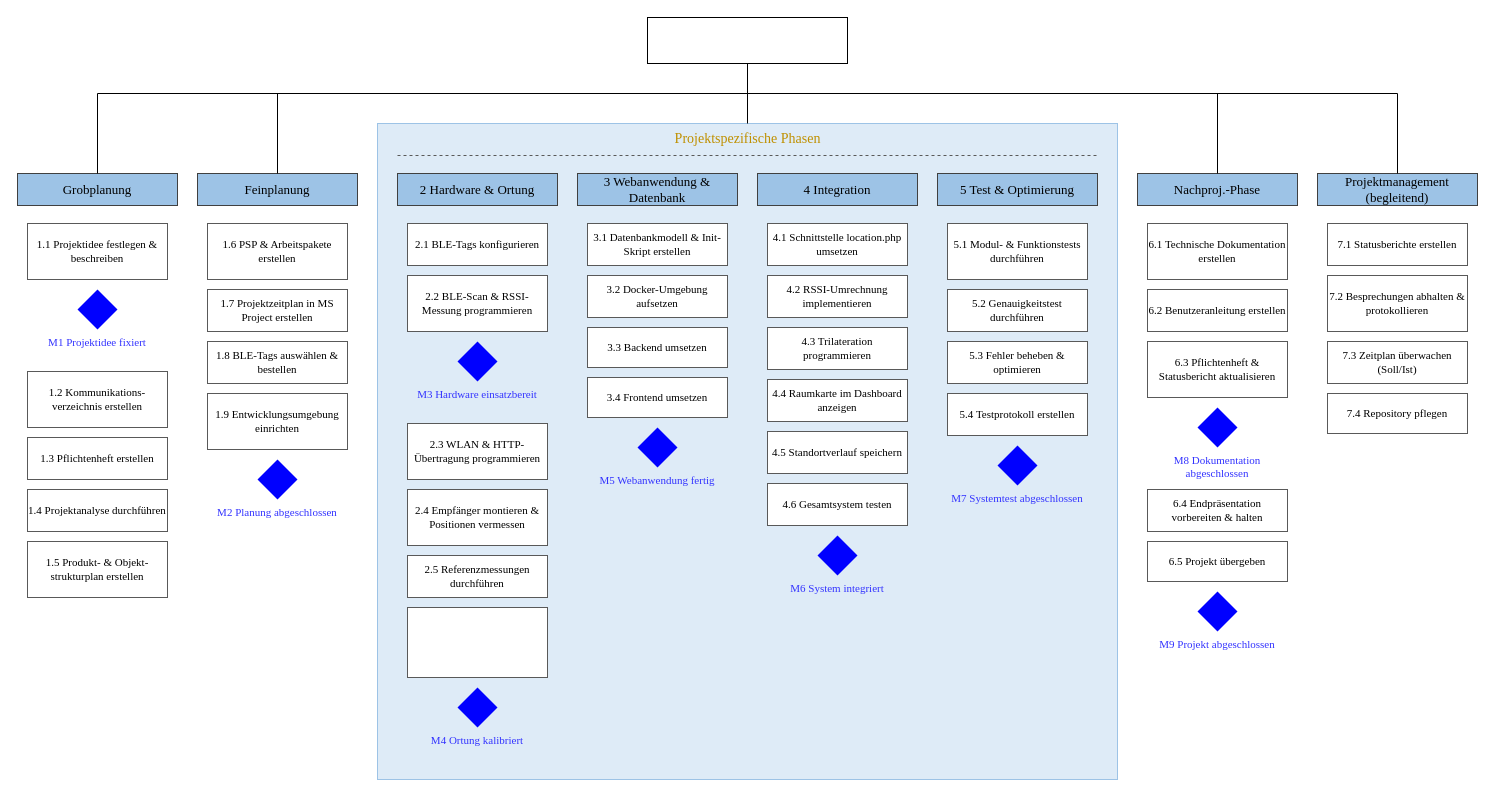
Image size: 1495x797. Some labels were removed from this diagram. The centre of each missing label's shape, as x and y in pixels:
2.6 TxPower & n bestimmen, Messprotokoll erstellen: [477,642]
MedTrack: [747,40]
